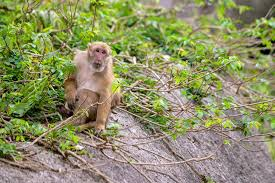monkey: (61, 29, 142, 159)
